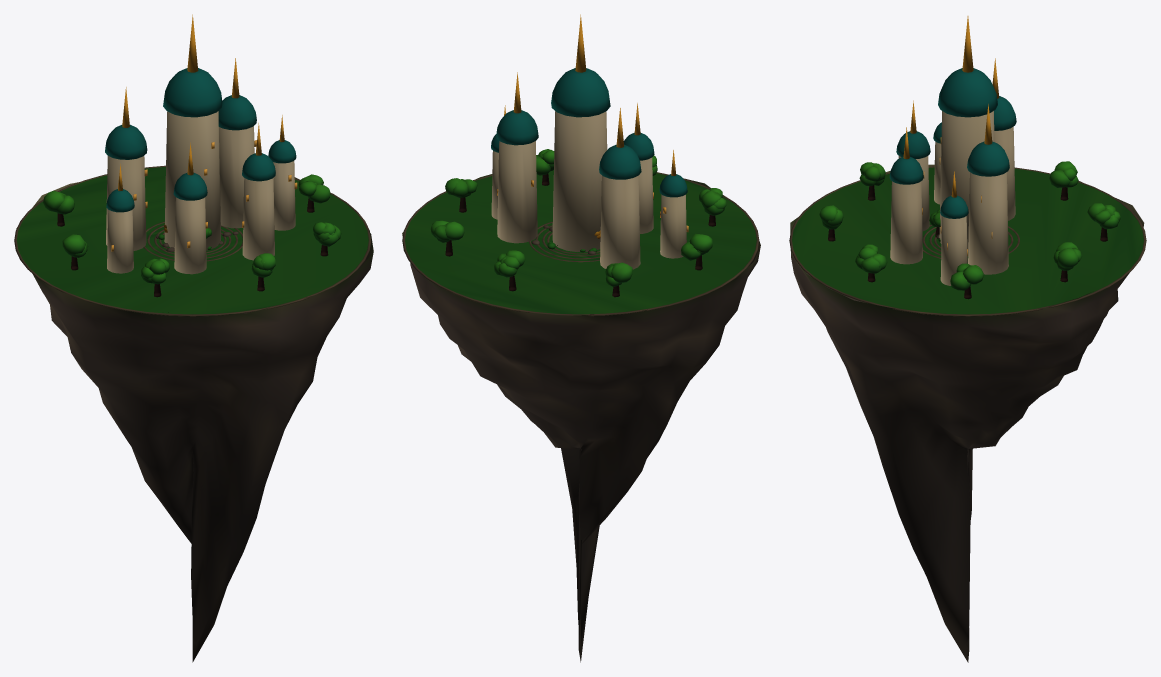
File: world-5200a885.glb
3 renders of one model, left to right at view 1: azimuth 30°, elevation 25°; view 2: azimuth 150°, elevation 25°; view 3: azimuth 270°, elevation 25°, orthographic.
Visible parts, largest first — view 1: citadel, island_3; view 2: citadel, island_3; view 3: citadel, island_3.
Boxes of the visible parts, x1=… form: citadel: x1=14, y1=14, x2=373, y2=662; island_3: x1=143, y1=221, x2=242, y2=261; citadel: x1=402, y1=14, x2=760, y2=662; island_3: x1=529, y1=221, x2=600, y2=262; citadel: x1=789, y1=16, x2=1146, y2=662; island_3: x1=922, y1=209, x2=1019, y2=261.
Size of the model in its own units: 52.44 by 105 by 52.44.
